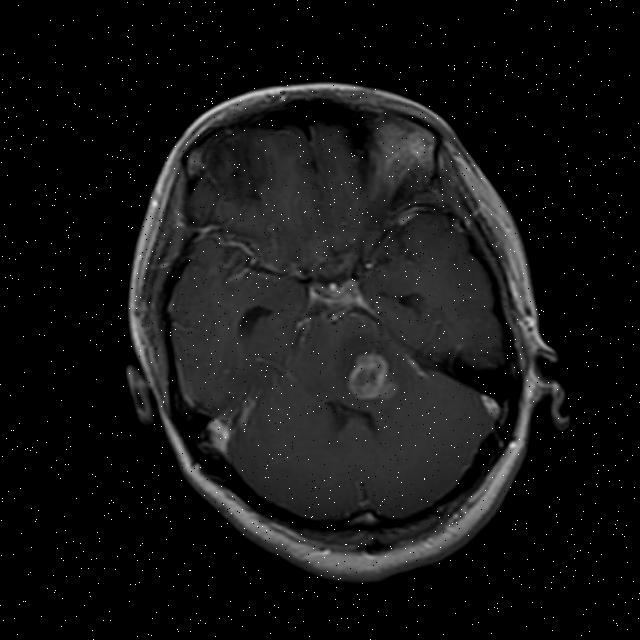Glioma: (341, 349, 399, 404)
